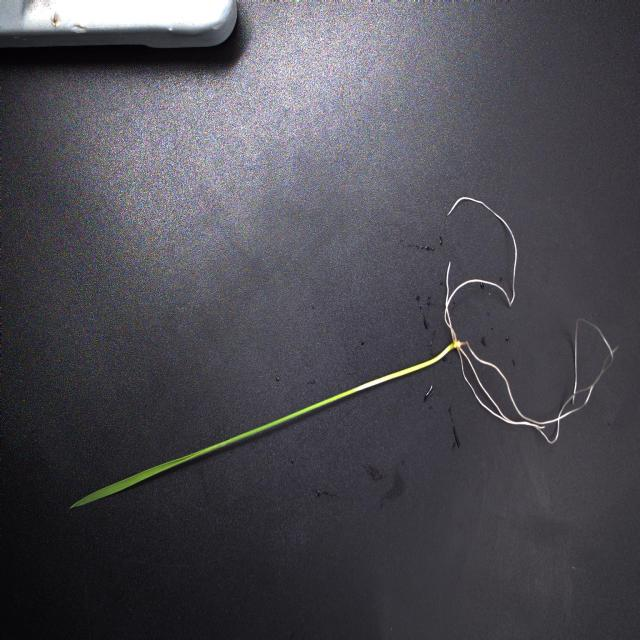leaf: (68, 443, 213, 512)
root: (443, 194, 619, 446)
stem: (216, 348, 451, 449)
